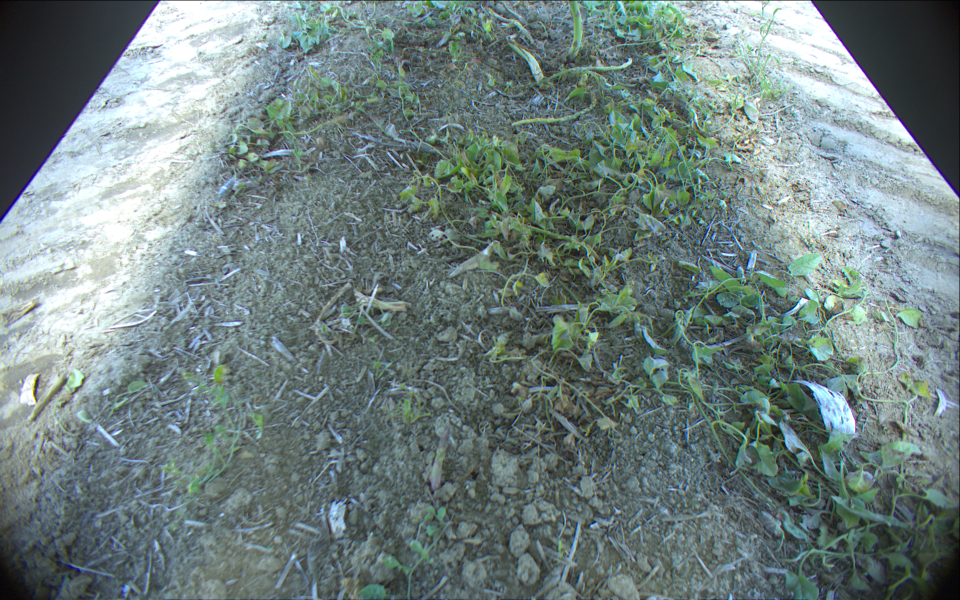aspa: (500, 59, 636, 91), (511, 90, 599, 127), (510, 45, 545, 84), (565, 1, 583, 56), (486, 9, 524, 31)
